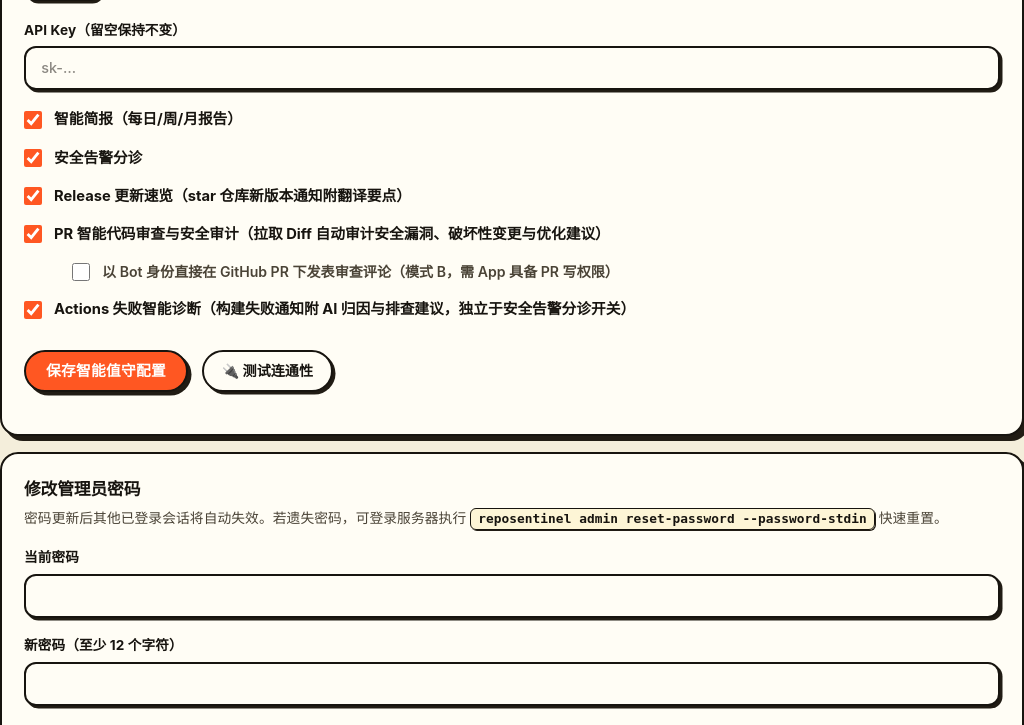
Test: 设置页 › 点击测试连通性成功时展示成功提示并携带表单值
This screenshot has width=1024, height=725.
(page scrolled)
Click the button "🔌 测试连通性" at {"x": 267, "y": 371}, box [202,350,333,392]
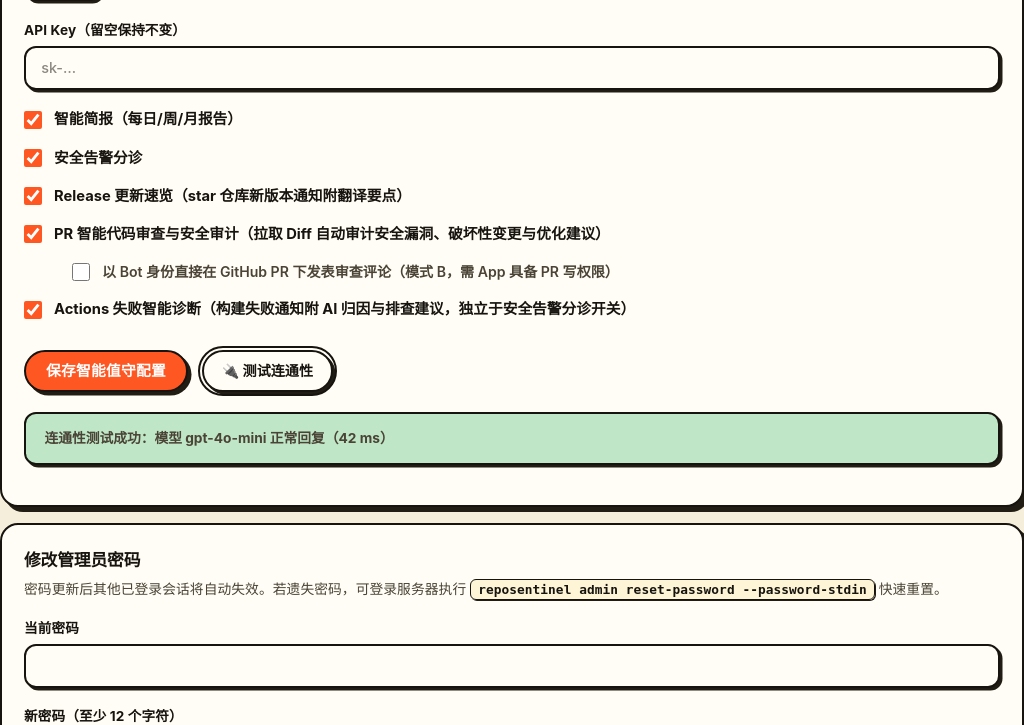
expect the text "连通性测试成功：模型 gpt-4o-mini 正常回复（42 ms）" is shown: met, box [24,412,1000,465]
